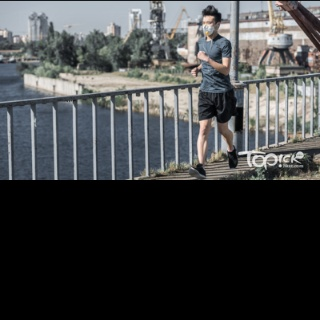with_mask: (200, 17, 216, 35)
